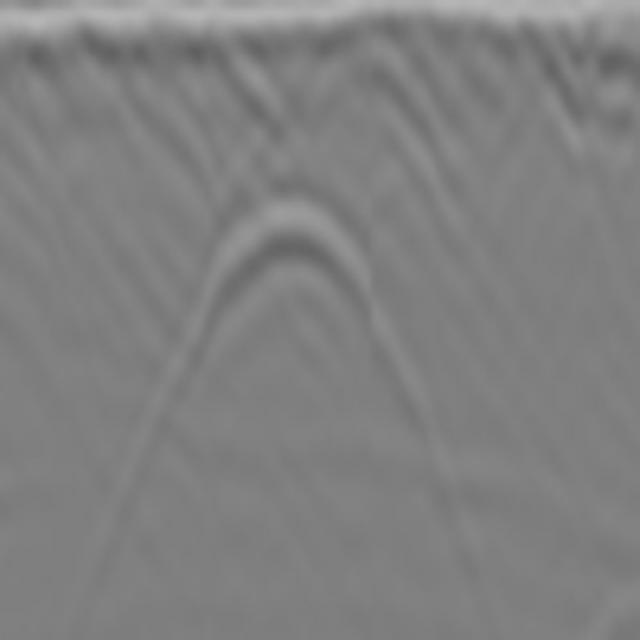hyperbola: (184, 184, 388, 402)
